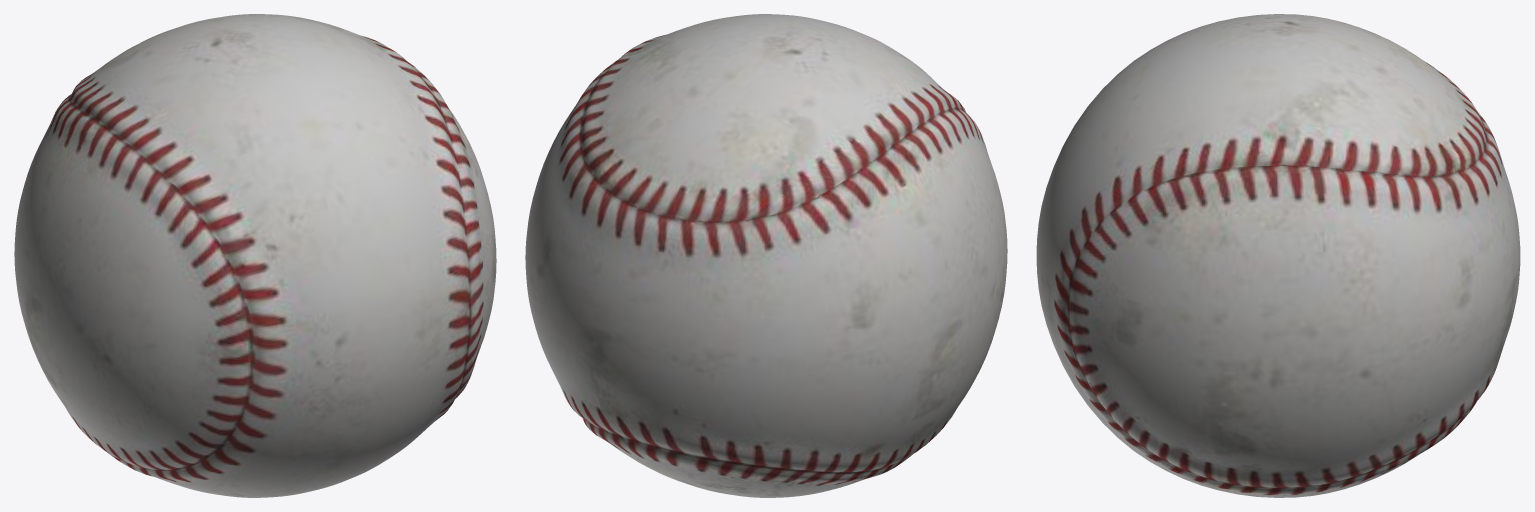
File: beisbol.glb
3 views of the same model, side by side, from view 1: azimuth 30°, elevation 25°; view 2: azimuth 150°, elevation 25°; view 3: azimuth 270°, elevation 25° (orthographic).
Visible parts, largest first — view 1: baseball_01; view 2: baseball_01; view 3: baseball_01.
Boxes of the visible parts, left/top/right/bottom form: baseball_01: left=14, top=14, right=496, bottom=497; baseball_01: left=525, top=14, right=1007, bottom=497; baseball_01: left=1036, top=14, right=1520, bottom=497.
Bounding box in the file's own units: 0.0735 × 0.0753 × 0.0752.
Materials: 1 (1 with a texture image).
